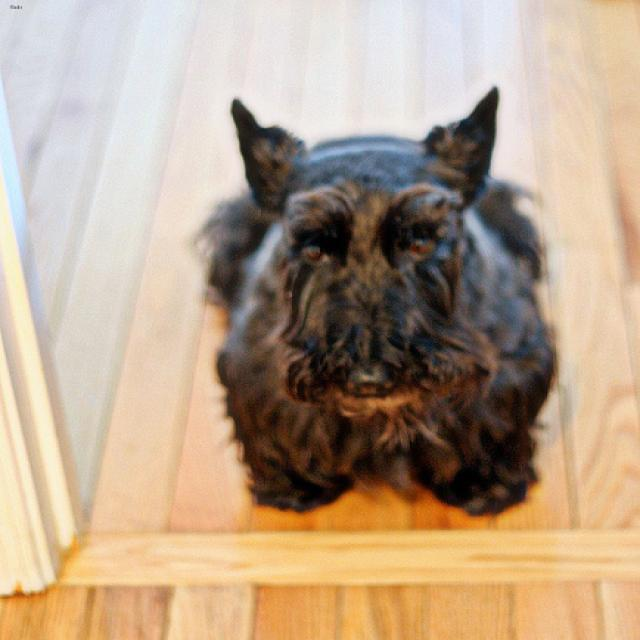dog-scottish_terrier: (184, 79, 574, 526)
